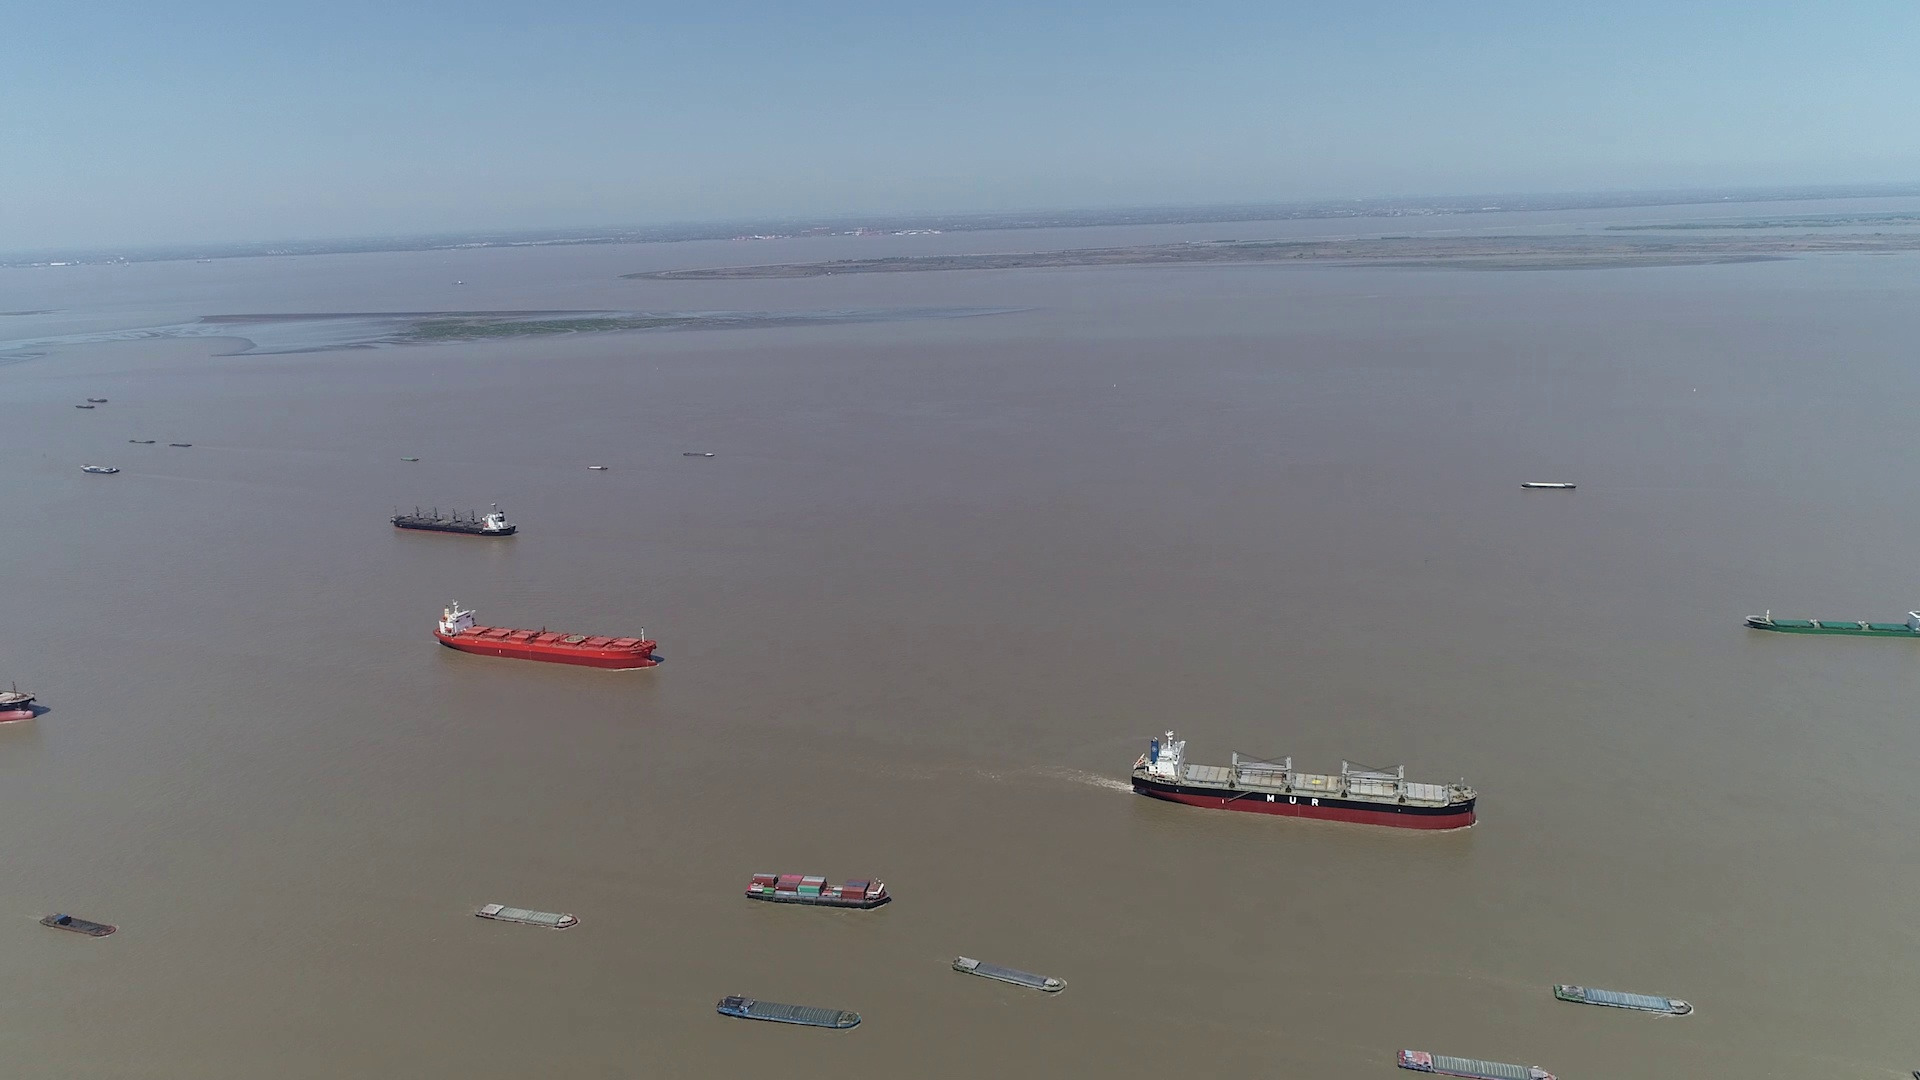ship: (1130, 731, 1478, 828), (436, 600, 657, 670), (1745, 607, 1920, 640), (717, 996, 862, 1033), (745, 873, 891, 909), (1553, 981, 1695, 1015), (1399, 1048, 1555, 1079), (952, 957, 1063, 994), (389, 504, 517, 535), (473, 901, 576, 927), (0, 675, 44, 725), (42, 913, 117, 936), (1522, 480, 1575, 491), (83, 462, 120, 475), (683, 450, 715, 458)
